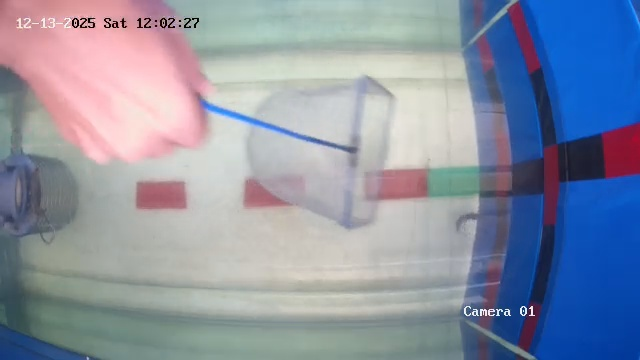fish: (452, 207, 499, 242)
